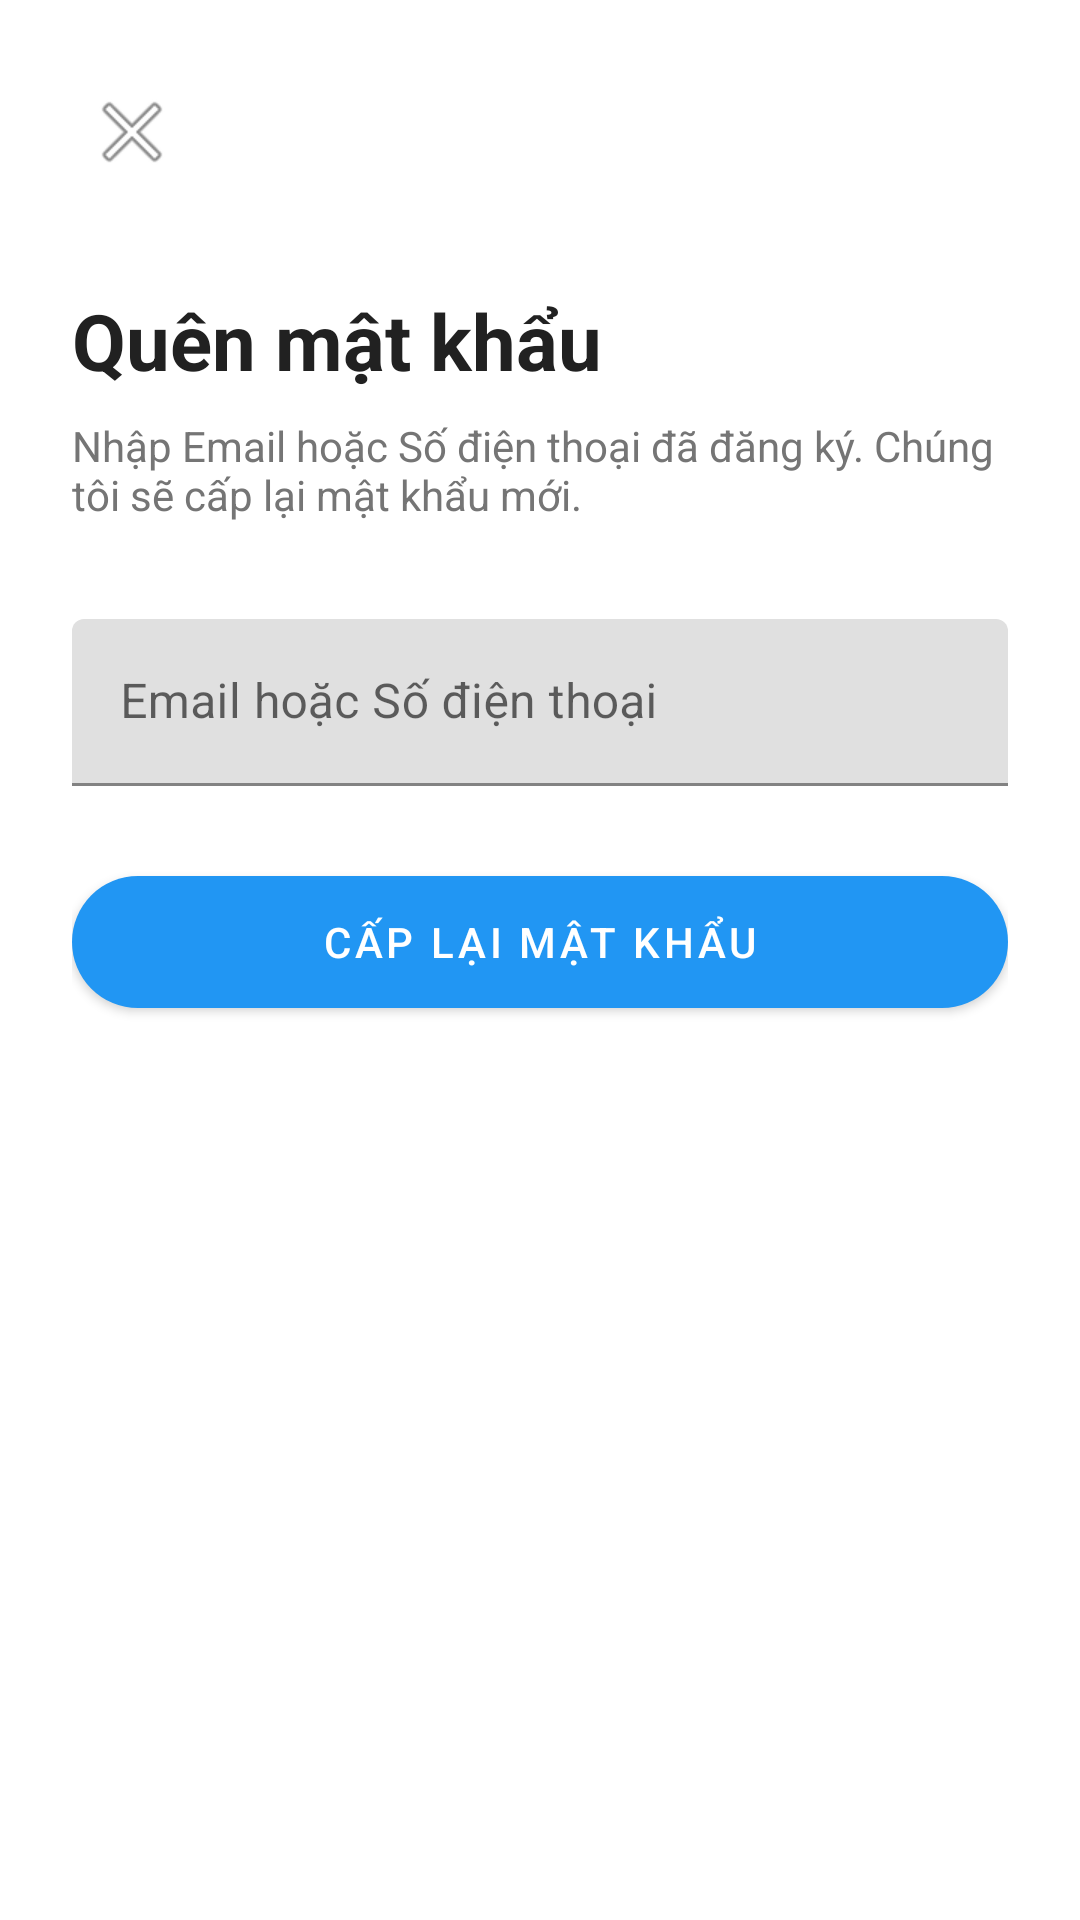

Screen size 1080*1920. Icon name, then its center in pixels as (x=x, y=y):
Quay lại: (x=132, y=132)
